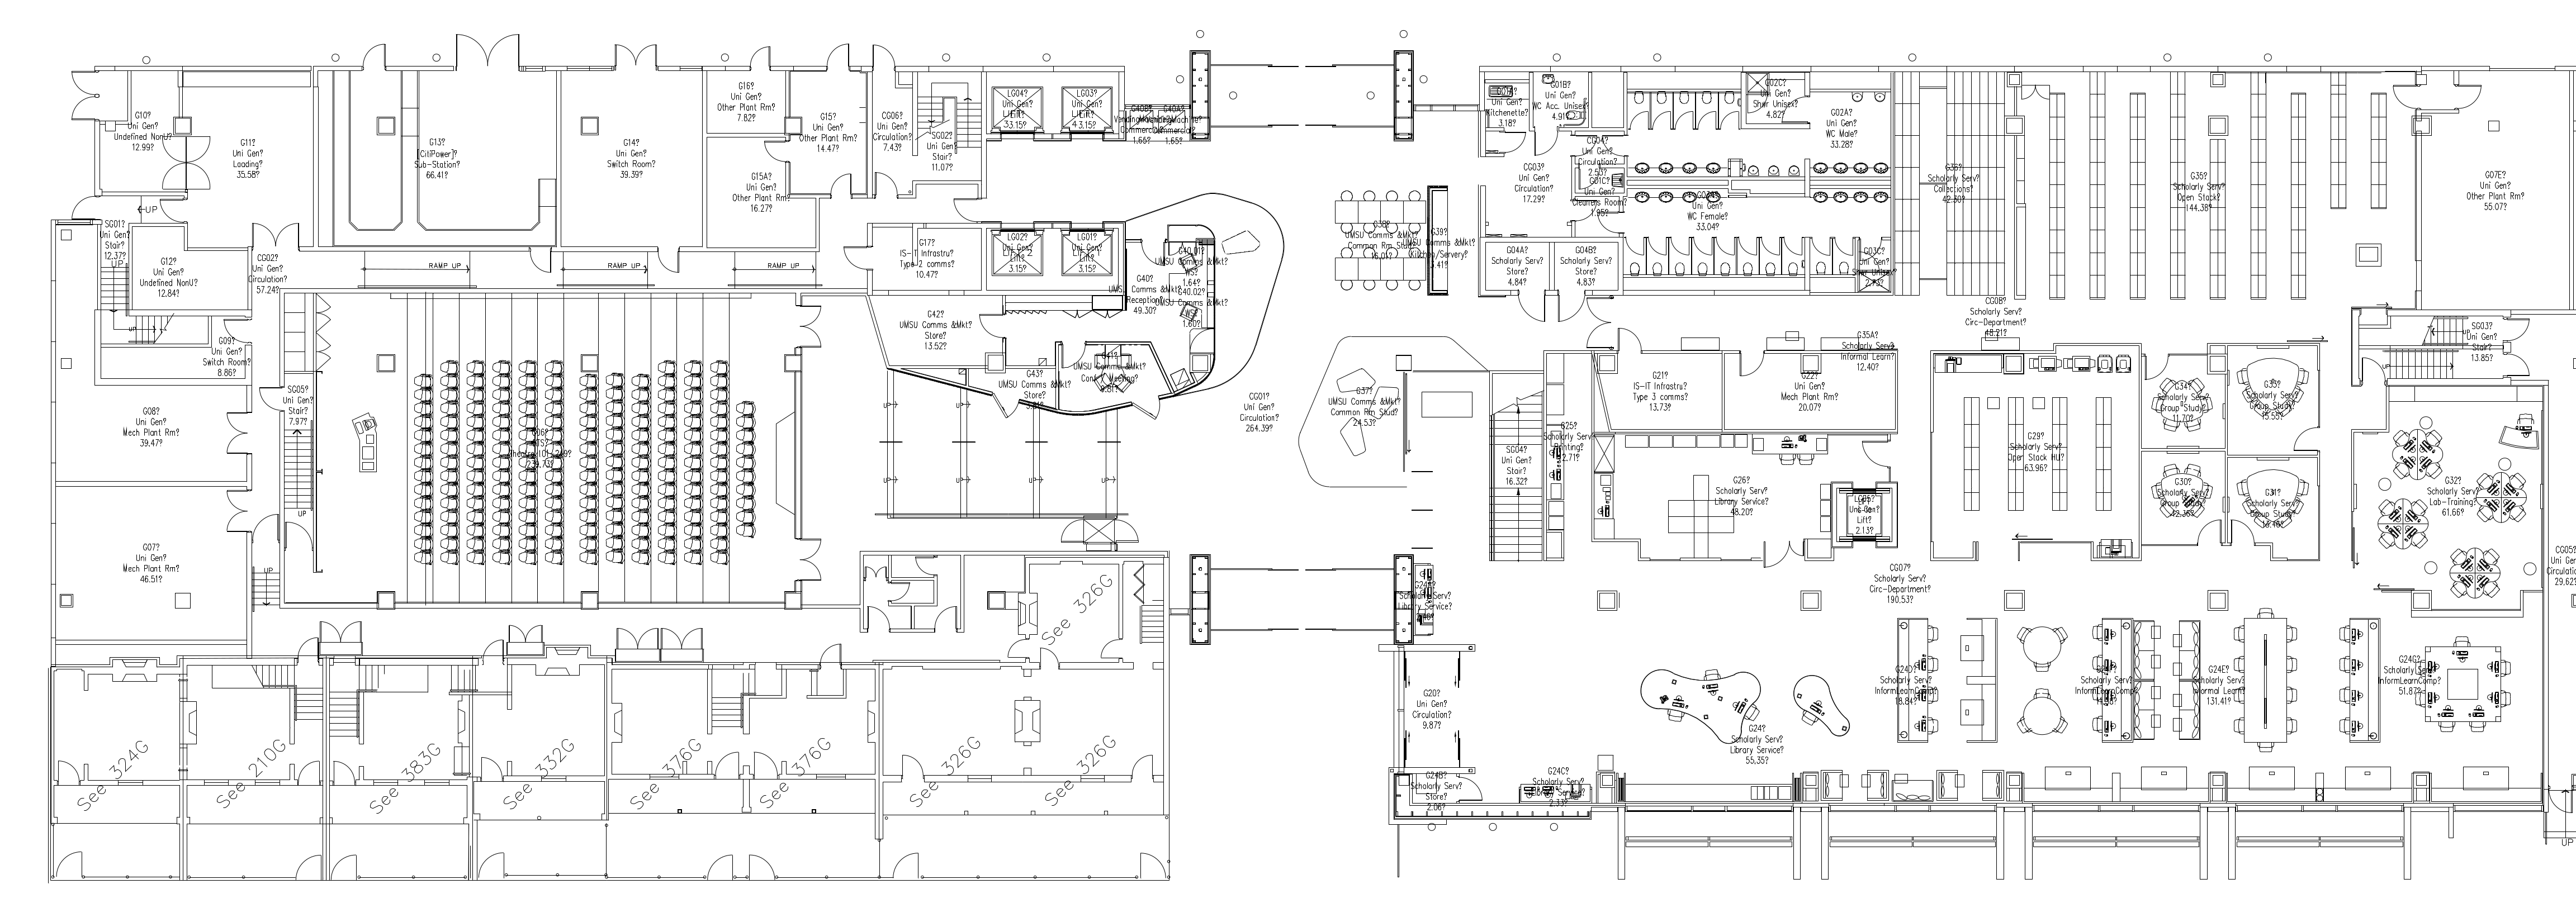text: (2459, 149, 2540, 240), (2164, 151, 2259, 227), (495, 409, 583, 479), (1921, 146, 1998, 227), (2165, 653, 2262, 717), (1319, 374, 1403, 445), (1155, 240, 1227, 317), (2141, 466, 2218, 534), (110, 402, 189, 466), (1392, 217, 1480, 273), (1111, 95, 1204, 146), (1104, 268, 1178, 332), (2067, 658, 2150, 714), (889, 304, 979, 355), (2422, 460, 2489, 525), (2366, 649, 2451, 699), (2233, 373, 2310, 429), (2152, 374, 2223, 435), (107, 537, 187, 589), (992, 363, 1078, 412), (1728, 714, 1787, 785), (2238, 473, 2307, 532), (1525, 755, 1587, 819), (1342, 212, 1410, 271), (1076, 341, 1150, 394), (1958, 289, 2031, 341), (1835, 317, 1899, 376), (238, 245, 304, 300), (795, 103, 858, 161), (2459, 315, 2520, 373), (1868, 557, 1929, 614), (1741, 71, 1805, 125), (862, 102, 920, 161), (215, 131, 276, 187), (1875, 662, 1937, 716), (715, 77, 780, 128), (1845, 238, 1904, 292), (1541, 69, 1590, 133), (138, 250, 204, 297), (1395, 578, 1459, 626), (1060, 223, 1117, 276), (1539, 417, 1598, 468), (1487, 238, 1546, 289), (1630, 366, 1697, 410), (731, 166, 795, 212), (110, 107, 174, 153), (411, 131, 463, 187), (1712, 471, 1771, 520), (2006, 427, 2068, 473), (204, 323, 251, 383), (897, 235, 959, 279), (1507, 154, 1557, 209), (1234, 384, 1288, 435), (1406, 763, 1462, 813), (1557, 241, 1615, 289), (1779, 369, 1840, 414), (1480, 82, 1533, 133), (605, 135, 660, 181), (918, 121, 963, 177), (1405, 688, 1462, 731), (992, 230, 1043, 277), (89, 215, 133, 269), (1571, 177, 1628, 217), (1819, 100, 1861, 153), (1567, 133, 1622, 174), (1686, 186, 1730, 235), (1061, 87, 1109, 131), (992, 89, 1043, 130), (1847, 488, 1884, 537), (1495, 440, 1533, 489), (283, 379, 317, 430)
